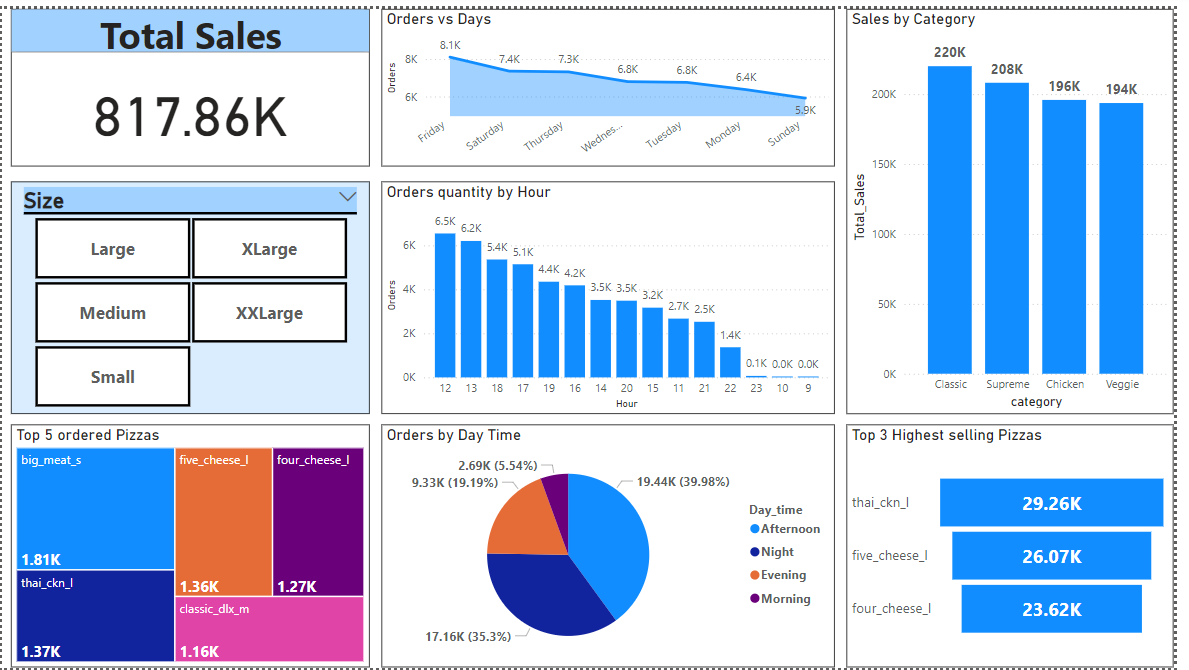

This screenshot's page, from the dashboard's own definition file:
{"tool":"powerbi","page":{"name":"Page 1","canvas":[1280,720],"ordinal":0},"visuals":[{"type":"card","title":"Total Sales","fields":{"Values":["order_details.Total_Sales"]},"box":[9.8,0,391.8,172.1],"z":0},{"type":"columnChart","title":"Orders quantity by Hour","fields":{"Category":["orders.Hour"],"Y":["Count(order_details.order_details_id)"]},"box":[414.8,188.5,495.1,254.1],"z":1},{"type":"areaChart","title":"Orders vs Days","fields":{"Category":["orders.Day Name"],"Y":["Count(order_details.order_details_id)"]},"box":[414.8,0,495.1,172.1],"z":2},{"type":"treemap","title":"Top 5 ordered Pizzas","fields":{"Group":["order_details.pizza_id"],"Values":["Count(order_details.order_details_id)"]},"box":[9.8,454.1,391.8,265.6],"z":3},{"type":"slicer","fields":{"Values":["pizzas.size"]},"box":[9.8,188.5,391.8,254.1],"z":4},{"type":"funnel","title":"Top 3 Highest selling Pizzas","fields":{"Category":["order_details.pizza_id"],"Y":["order_details.Total_Sales"]},"box":[923,454.1,357.4,265.6],"z":5},{"type":"pieChart","title":"Orders by Day Time","fields":{"Y":["Count(order_details.order_details_id)"],"Category":["orders.Day_time"]},"box":[414.8,454.1,495.1,265.6],"z":6},{"type":"columnChart","title":"Sales by Category","fields":{"Category":["pizza_types.category"],"Y":["order_details.Total_Sales"]},"box":[923,0,357.4,442.6],"z":7}]}

Visuals, with their boxes in screenshot pixels (x1, y1, x2, y2), scaled from the page's 1280x720 canvas onto the 1189x670 screenshot:
"Total Sales" card: rect(9, 0, 373, 160)
"Orders quantity by Hour" columnChart: rect(385, 175, 845, 412)
"Orders vs Days" areaChart: rect(385, 0, 845, 160)
"Top 5 ordered Pizzas" treemap: rect(9, 423, 373, 669)
slicer - pizzas.size: rect(9, 175, 373, 412)
"Top 3 Highest selling Pizzas" funnel: rect(857, 423, 1188, 669)
"Orders by Day Time" pieChart: rect(385, 423, 845, 669)
"Sales by Category" columnChart: rect(857, 0, 1188, 412)
